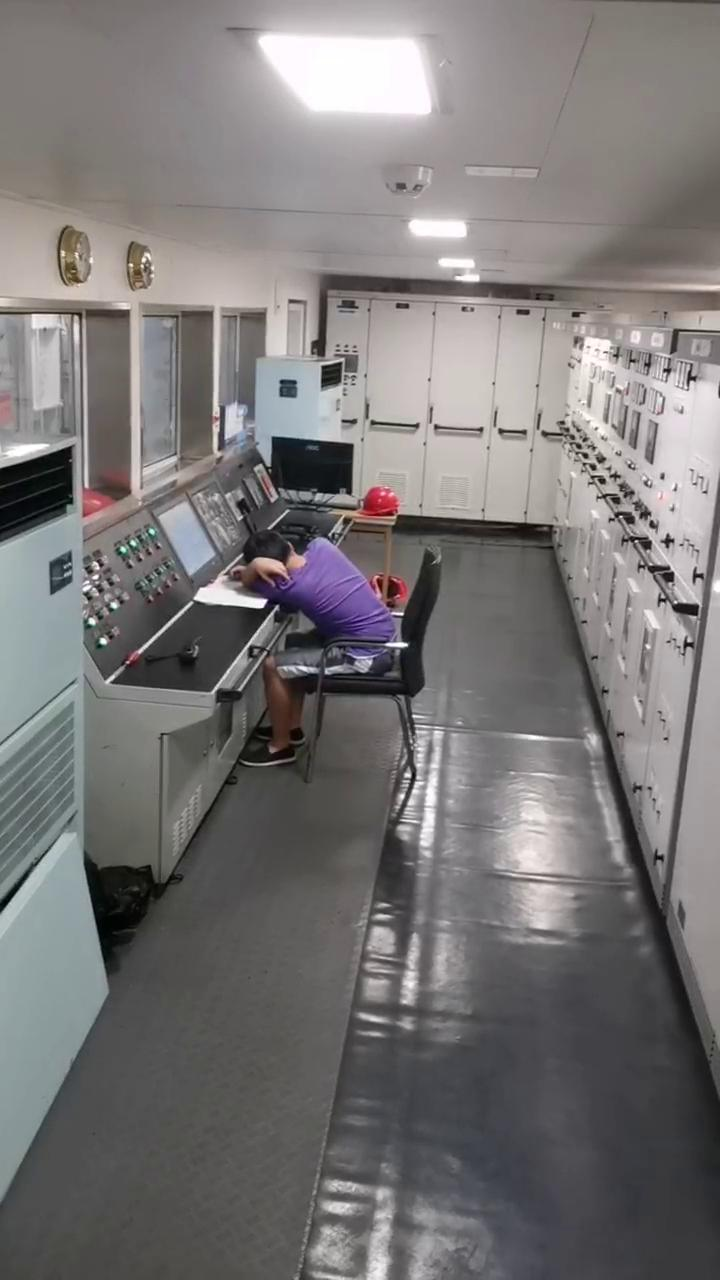sleep: (234, 528, 406, 673)
